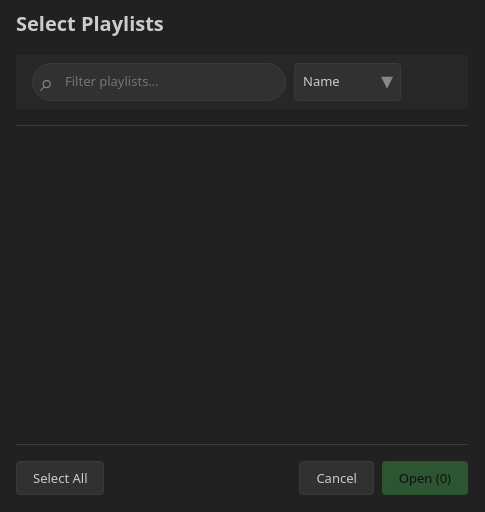
Scenario: PlaylistSelectModal › Select All selects all visible items
Click the button "Select All".
click(60, 478)  # box [16,460,104,495]
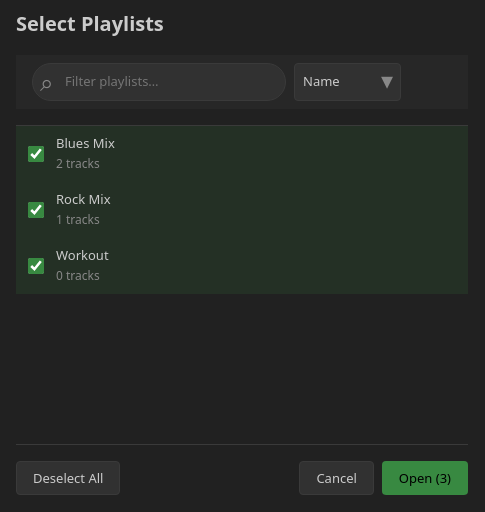
Now the button "Open (3)" is shown, box [382,460,468,495]
